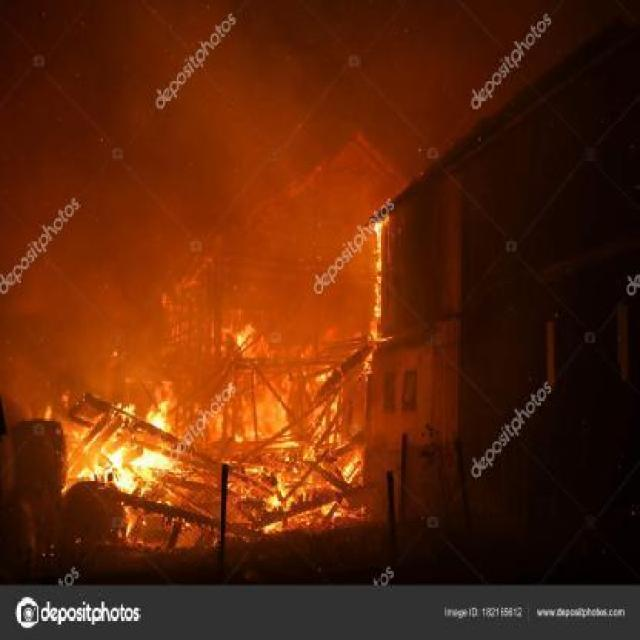Fire: (68, 380, 184, 537), (370, 219, 387, 350), (275, 400, 300, 448), (334, 452, 362, 486), (230, 319, 256, 347), (258, 487, 284, 513)
